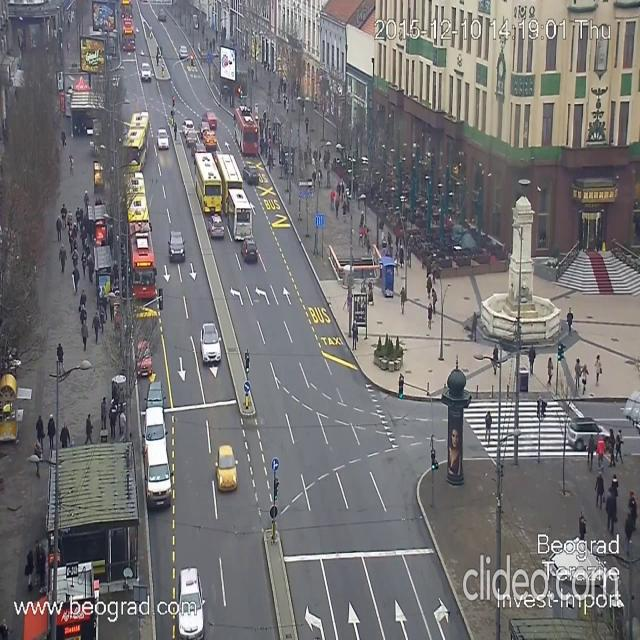bus: (125, 216, 159, 292), (193, 144, 220, 213), (218, 146, 245, 204), (227, 184, 251, 242), (125, 171, 149, 225), (233, 109, 257, 155), (128, 110, 146, 167), (122, 14, 136, 50), (119, 0, 133, 18)
car: (178, 566, 205, 639), (566, 415, 614, 451), (144, 450, 172, 511), (214, 444, 238, 492), (146, 408, 166, 462), (199, 322, 221, 364), (136, 340, 153, 382), (206, 210, 224, 243), (167, 230, 185, 262), (147, 375, 162, 412), (240, 236, 258, 262), (204, 111, 218, 133), (157, 127, 169, 149), (202, 134, 218, 150), (142, 62, 151, 86), (189, 136, 199, 156), (182, 123, 196, 137), (179, 43, 189, 57)
